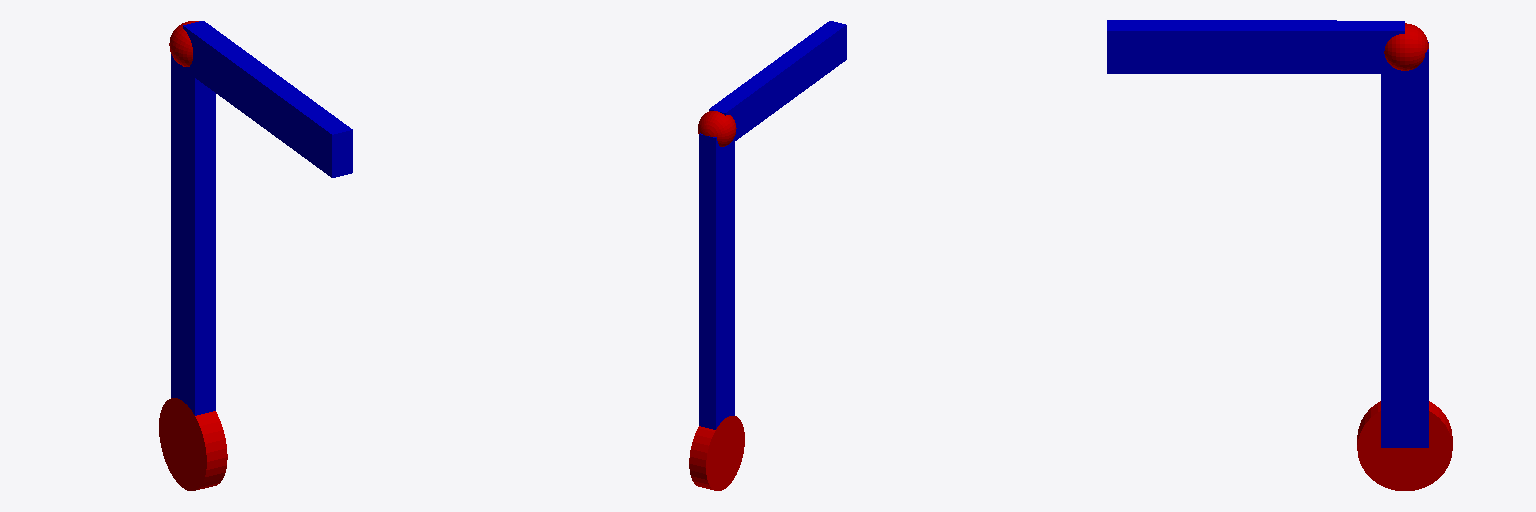
URDF robot description (TwoLinkStruct8396770523):
<?xml version="1.0"?>
<robot  name="TwoLinkStruct8396770523" >
 <material  name="blue" >
  <color  rgba="0 0 0.8 1.0" />
 </material>
 <material  name="red" >
  <color  rgba="0.8 0 0 1.0" />
 </material>
 <link  name="base_link" >
  <visual >
   <origin  rpy="0 1.5707 0"  xyz="0 0 0" />
   <material  name="red" />
   <geometry >
    <cylinder  length="0.05"  radius="0.1" />
   </geometry>
  </visual>
 </link>
 <joint  type="revolute"  name="joint1" >
  <parent  link="base_link" />
  <child  link="link1" />
  <origin  xyz="0 0 0"  rpy="0 0 0" />
  <axis  xyz="1 0 0" />
 </joint>
 <link  name="link1" >
  <inertial >
   <origin  rpy="0 0 0"  xyz="0 0 0.45710703630660016" />
   <mass  value="3.1753416819632707" />
   <inertia  ixy="0.0"  iyy="0.0013230590341513629"  izz="0.2218207357679419"  ixz="0.0"  ixx="0.2218207357679419"  iyz="0.0" />
  </inertial>
  <visual >
   <origin  rpy="0 0 0"  xyz="0 0 0.45710703630660016" />
   <material  name="blue" />
   <geometry >
    <box  size="0.05 0.1 0.9142140726132003" />
   </geometry>
  </visual>
 </link>
 <joint  type="fixed"  name="joint-joint-1" >
  <parent  link="link1" />
  <child  link="joint-link-1" />
  <origin  xyz="0 0 0.9142140726132003"  rpy="1.5707 0 0" />
  <axis  xyz="1 0 0" />
 </joint>
 <link  name="joint-link-1" >
  <inertial >
   <origin  rpy="0 0 0"  xyz="0 0 0" />
   <mass  value="4.413512833836128" />
   <inertia  ixy="0"  iyy="0"  izz="0"  ixz="0"  ixx="0"  iyz="0" />
  </inertial>
  <visual >
   <origin  rpy="0 0 0"  xyz="0 0 0" />
   <material  name="red" />
   <geometry >
    <sphere  radius="0.05" />
   </geometry>
  </visual>
 </link>
 <joint  type="revolute"  name="joint2" >
  <parent  link="link1" />
  <child  link="link2" />
  <origin  xyz="0 0 0.9142140726132003"  rpy="1.5707 0 0" />
  <axis  xyz="1 0 0" />
 </joint>
 <link  name="link2" >
  <inertial >
   <origin  rpy="0 0 0"  xyz="0 0 0.31153784159458947" />
   <mass  value="1.683850809167748" />
   <inertia  ixy="0.0"  iyy="0.0013230590341513629"  izz="0.10339000023111684"  ixz="0.0"  ixx="0.10339000023111684"  iyz="0.0" />
  </inertial>
  <visual >
   <origin  rpy="0 0 0"  xyz="0 0 0.31153784159458947" />
   <material  name="blue" />
   <geometry >
    <box  size="0.05 0.1 0.6230756831891789" />
   </geometry>
  </visual>
 </link>
 <joint  type="fixed"  name="eef_joint" >
  <parent  link="link2" />
  <child  link="eef" />
  <origin  xyz="0 0 0.6230756831891789"  rpy="0 0 0" />
 </joint>
 <link  name="eef" >
  <inertial >
   <origin  rpy="0 0 0"  xyz="0 0 0" />
   <mass  value="1" />
   <inertia  ixy="0"  iyy="0"  izz="0"  ixz="0"  ixx="0"  iyz="0" />
  </inertial>
 </link>
 <transmission  name="motor1" >
  <type  xmltext="SimpleTransmission" >
   SimpleTransmission
  </type>
  <actuator  name="motor1" >
   <mechanicalreduction  xmltext="1" >
    1
   </mechanicalreduction>
  </actuator>
  <joint  name="joint1" />
 </transmission>
 <transmission  name="motor2" >
  <type  xmltext="SimpleTransmission" >
   SimpleTransmission
  </type>
  <actuator  name="motor2" >
   <mechanicalreduction  xmltext="1" >
    1
   </mechanicalreduction>
  </actuator>
  <joint  name="joint2" />
 </transmission>
</robot>

<!-- {'carti': array([-0.1 ,  0.14,  0.85]), 'cartd': array([-0.1 ,  0.32,  1.29]), 'tau_mu': 0.42281109215285717, 'b0': 0.38362702162843026, 'Km': 2.827101768251356, 'k_velocity': 91.56706815772473, 'tau_max_m': 3.485241776838045, 'omega_max_m': 3216.784896486337, 'gear_ratio': 5.725694152430973, 'Kp': 46.31481707257423, 'Kd': 12.731382121192272, 'm_m': 4.413512833836128, 'l1': 0.9142140726132003, 'l2': 0.6230756831891789, 'k1': 15649.272056795358, 'k2': 378722943.8665507, 'k3': 305775118.63781506}-->

--- What the picture shows (computed from the rendered views, not written in the file) ---
3 views of the same robot in one strip: view 1: azimuth 30°, elevation 25°; view 2: azimuth 150°, elevation 25°; view 3: azimuth 270°, elevation 25° (orthographic).
Model TwoLinkStruct8396770523 with 5 links and 4 joints (2 revolute, 2 fixed), rooted at base_link, posed every joint at zero.
Links seen in each view (by area): view 1: link1, link2, base_link, joint-link-1; view 2: link1, link2, base_link, joint-link-1; view 3: link1, link2, base_link, joint-link-1.
Boxes of the visible links, bbox=[...] form: link1: bbox=[171, 54, 215, 415]; link2: bbox=[183, 21, 352, 177]; base_link: bbox=[159, 398, 227, 490]; joint-link-1: bbox=[169, 21, 198, 66]; link1: bbox=[699, 133, 734, 429]; link2: bbox=[709, 21, 846, 141]; base_link: bbox=[689, 416, 744, 490]; joint-link-1: bbox=[698, 111, 736, 146]; link1: bbox=[1381, 42, 1428, 447]; link2: bbox=[1107, 20, 1404, 73]; base_link: bbox=[1357, 401, 1452, 490]; joint-link-1: bbox=[1384, 23, 1428, 70].
Bounding box of the posed robot: 0.1 × 0.7231 × 1.06 m (x, y, z).
Geometry: primitives only (box / cylinder / sphere), no mesh files.
